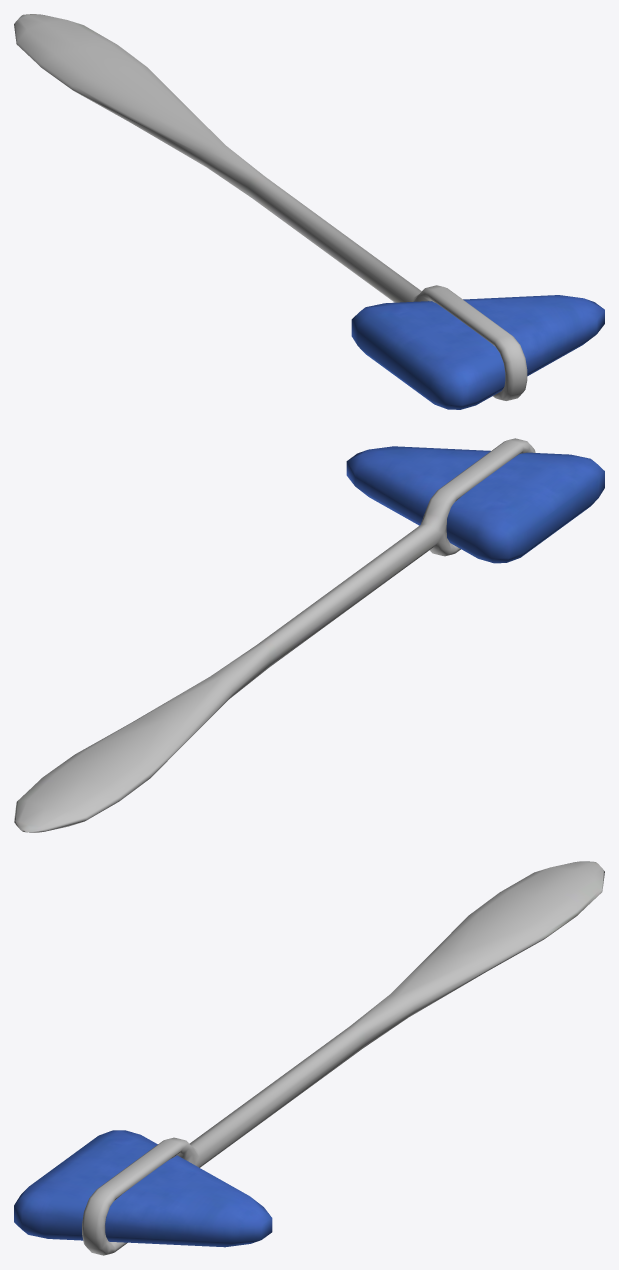
The model's file is reflex hammer-compressed.glb.
3 views of the same model, one above another, from view 1: azimuth 30°, elevation 25°; view 2: azimuth 150°, elevation 25°; view 3: azimuth 330°, elevation 25° (orthographic).
Visible parts, largest first — view 1: Reflex Hammer.002; view 2: Reflex Hammer.002; view 3: Reflex Hammer.002.
Part boxes in pixels (x1,y1,x2,y2): Reflex Hammer.002: (14,14,604,409); Reflex Hammer.002: (14,438,604,832); Reflex Hammer.002: (14,861,604,1255).
Bounding box in the file's own units: 0.0495 × 0.0141 × 0.2094.
Materials: 1 (1 with a texture image).
